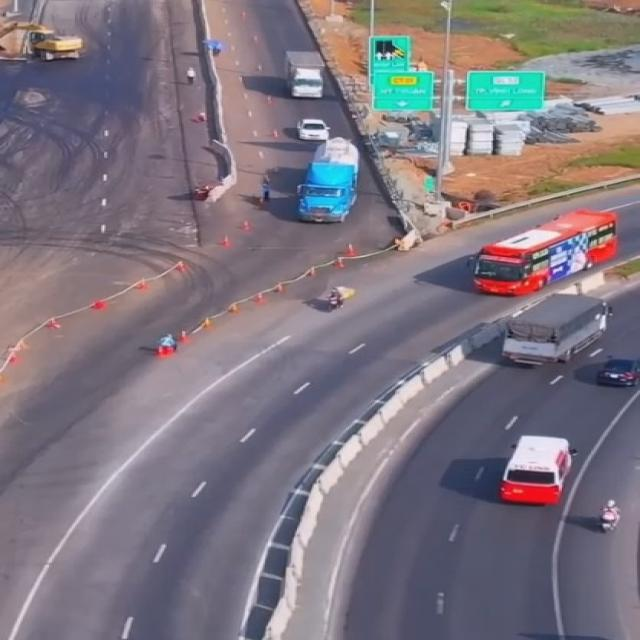bus: (469, 208, 617, 302), (496, 433, 571, 508)
car: (594, 360, 640, 390), (294, 112, 329, 140)
motorbike: (599, 502, 626, 539)
truck: (507, 295, 606, 362), (296, 137, 368, 227), (279, 51, 329, 99)
